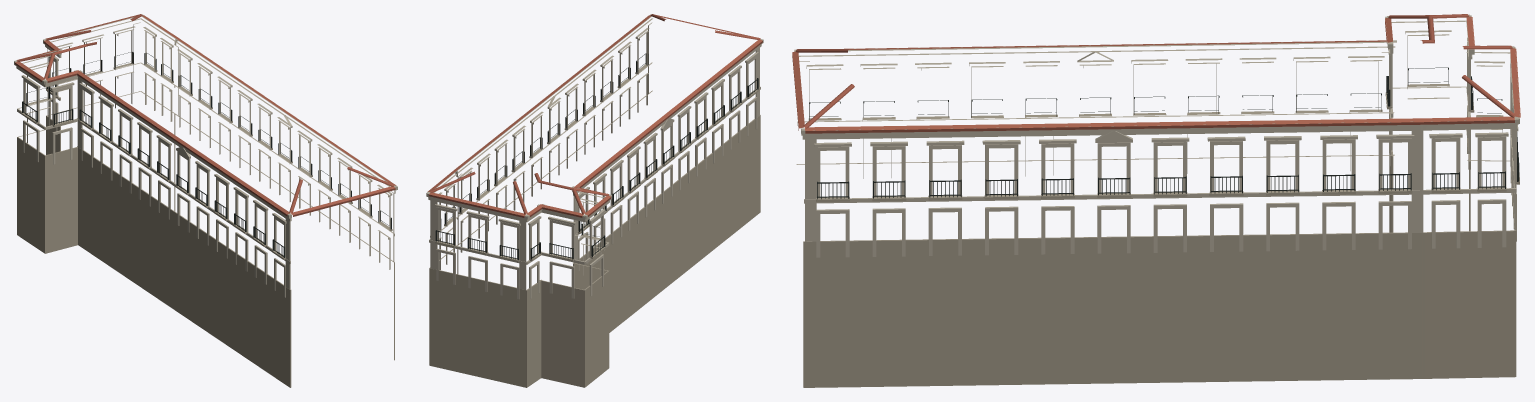
3 views of the same model, side by side, from view 1: azimuth 30°, elevation 25°; view 2: azimuth 150°, elevation 25°; view 3: azimuth 270°, elevation 25° (orthographic). The views are drawn at different scales.
Parts seen in each view (by area): view 1: detail; view 2: detail; view 3: detail.
Part boxes in pixels (<box>): detail: <box>14,14,397,387</box>; detail: <box>426,14,763,387</box>; detail: <box>792,14,1520,387</box>.
Size of the model in its own units: 14.34 by 16.14 by 37.85.
